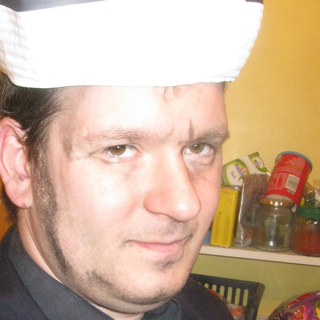eye: (94, 139, 143, 163), (182, 138, 217, 160)
